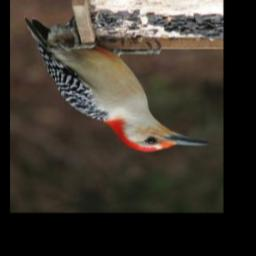Woodpecker: (22, 15, 210, 152)
